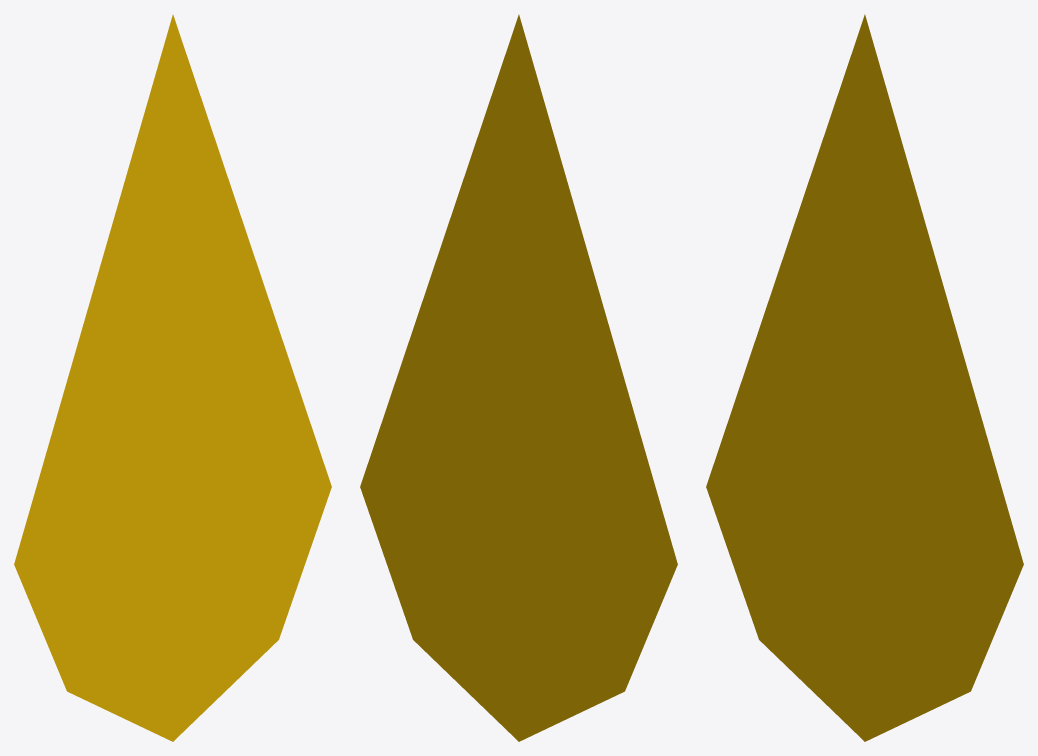
Rendered from flower2_particle.fbx.
3 renders of one model, left to right at view 1: azimuth 30°, elevation 25°; view 2: azimuth 150°, elevation 25°; view 3: azimuth 330°, elevation 25°, orthographic.
Parts seen in each view (by area): view 1: Cube_2; view 2: Cube_2; view 3: Cube_2.
Boxes of the visible parts, <box> form: Cube_2: <box>14,14,331,741</box>; Cube_2: <box>360,14,677,741</box>; Cube_2: <box>706,14,1023,741</box>.
Size of the model in its own units: 6.75 by 14.78 by 0.
